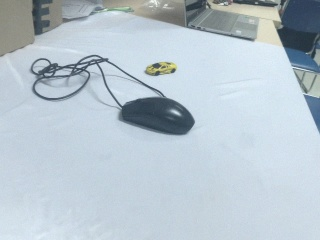mouse: (121, 97, 195, 136)
toy_car: (141, 56, 178, 78)
